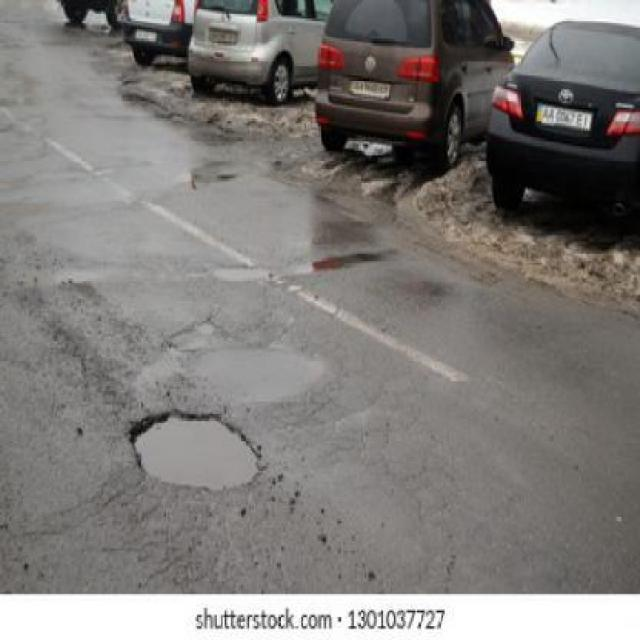Buraco: (124, 405, 268, 496), (280, 246, 404, 278)
